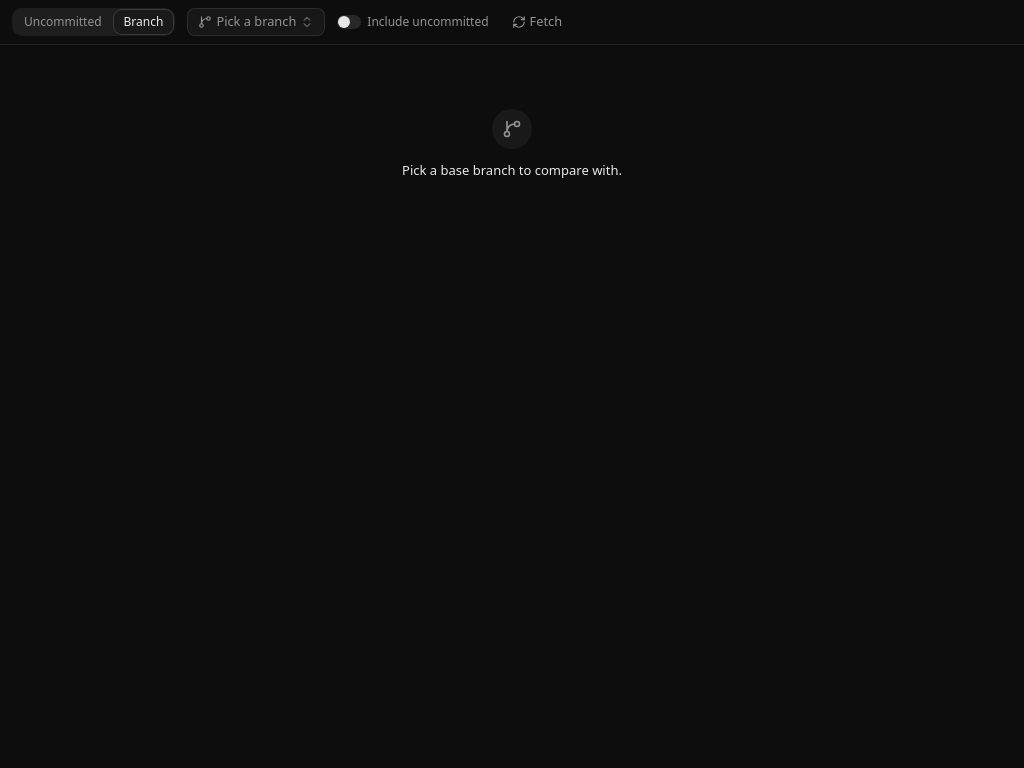
Test case: ChangesView › asks for a base without a default branch
Expected: the text "Pick a base branch to compare with." is shown, [402, 161, 622, 179]
Click the dropdown named "Base branch".
click(256, 22)  # box [187, 8, 325, 36]
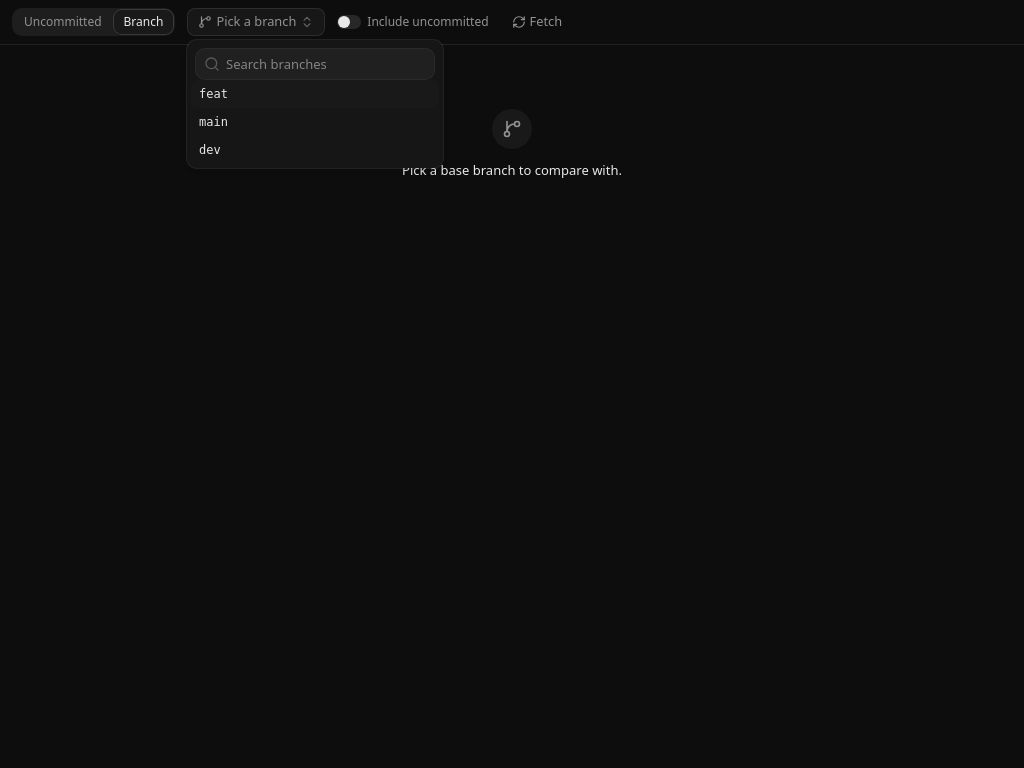
Click the option "feat".
click(315, 94)  # box [191, 80, 439, 108]
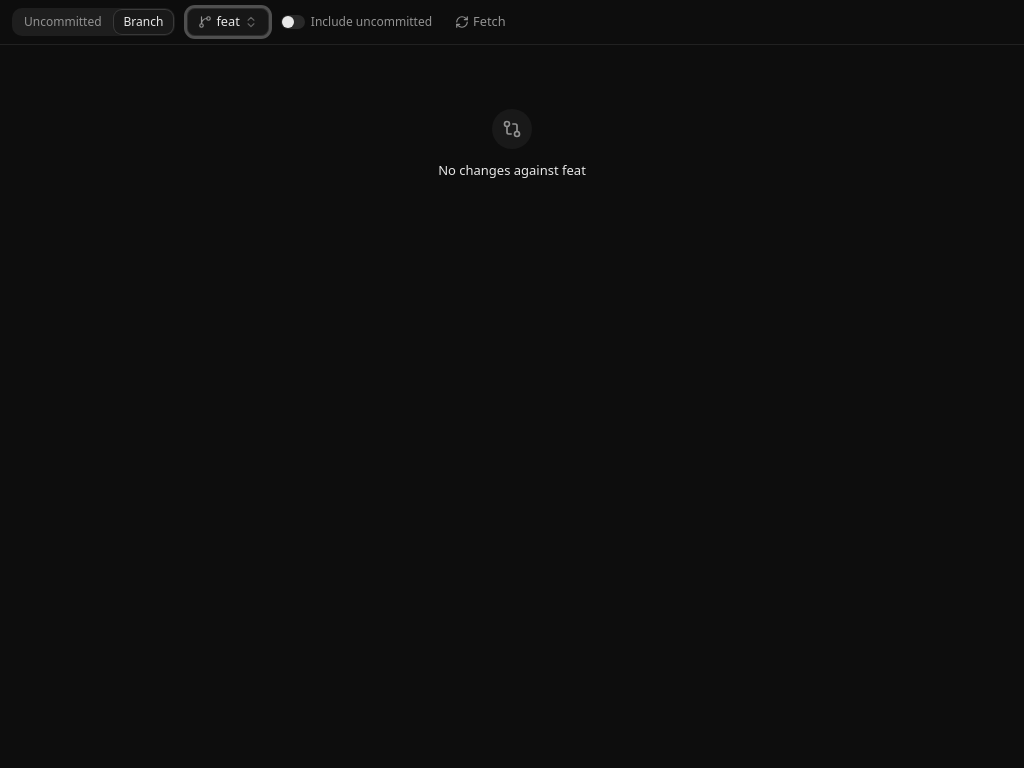
Expected: the text "No changes against feat" is shown, [438, 161, 586, 179]
